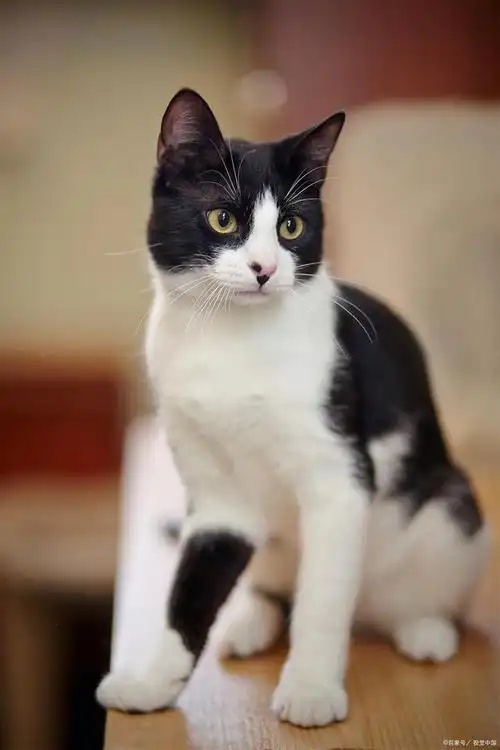奶牛猫: (147, 89, 343, 327)
